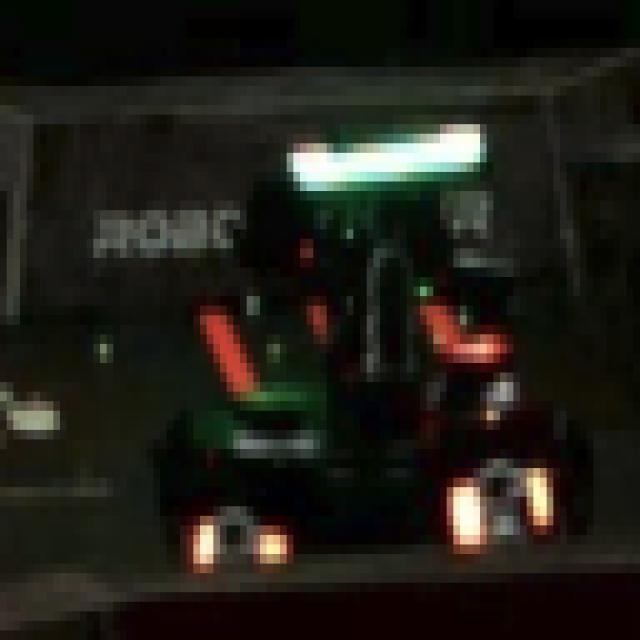Rs: (447, 449, 553, 544)
